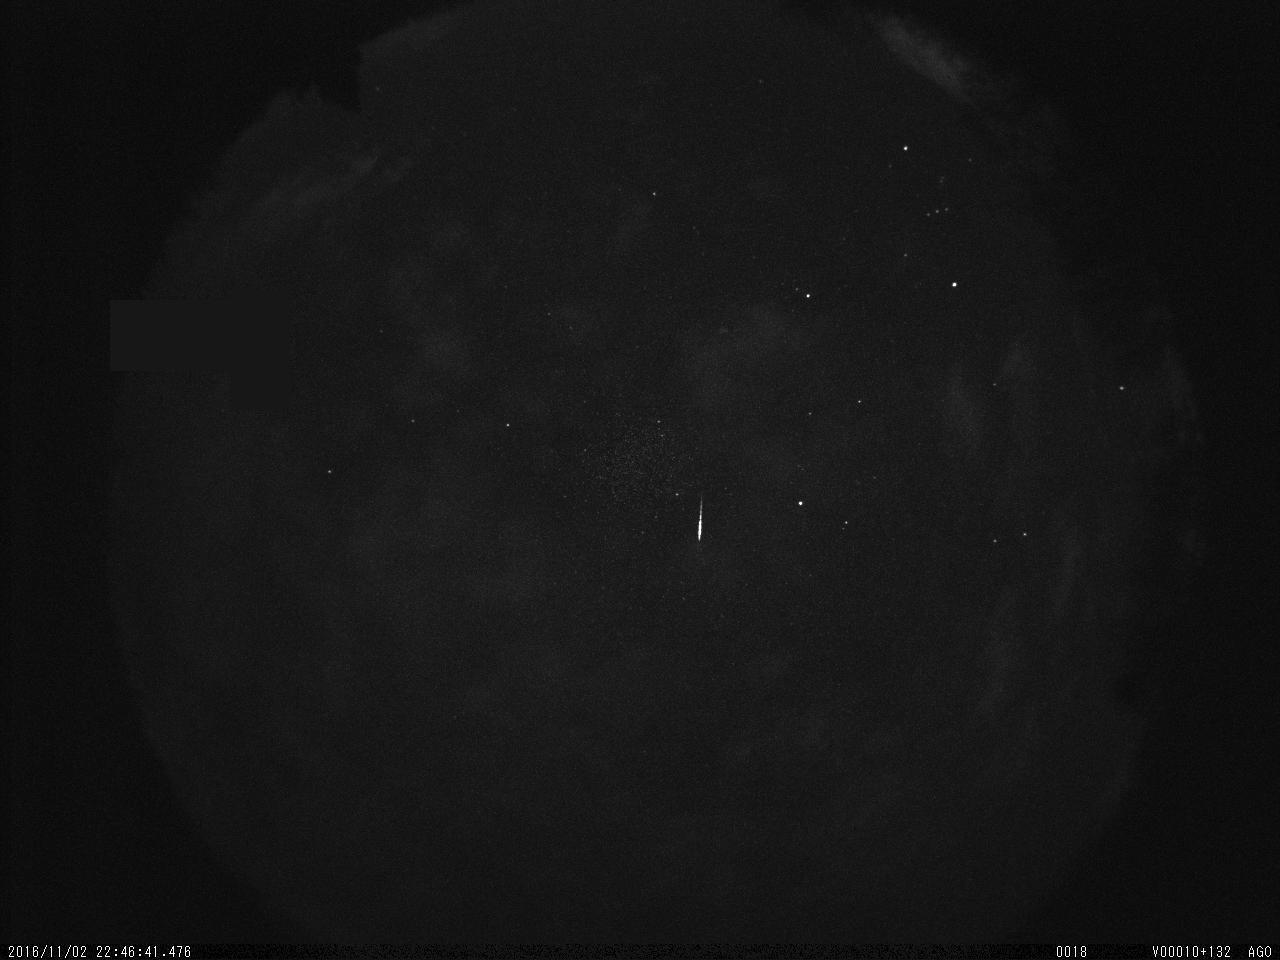meteor: (676, 488, 724, 570)
